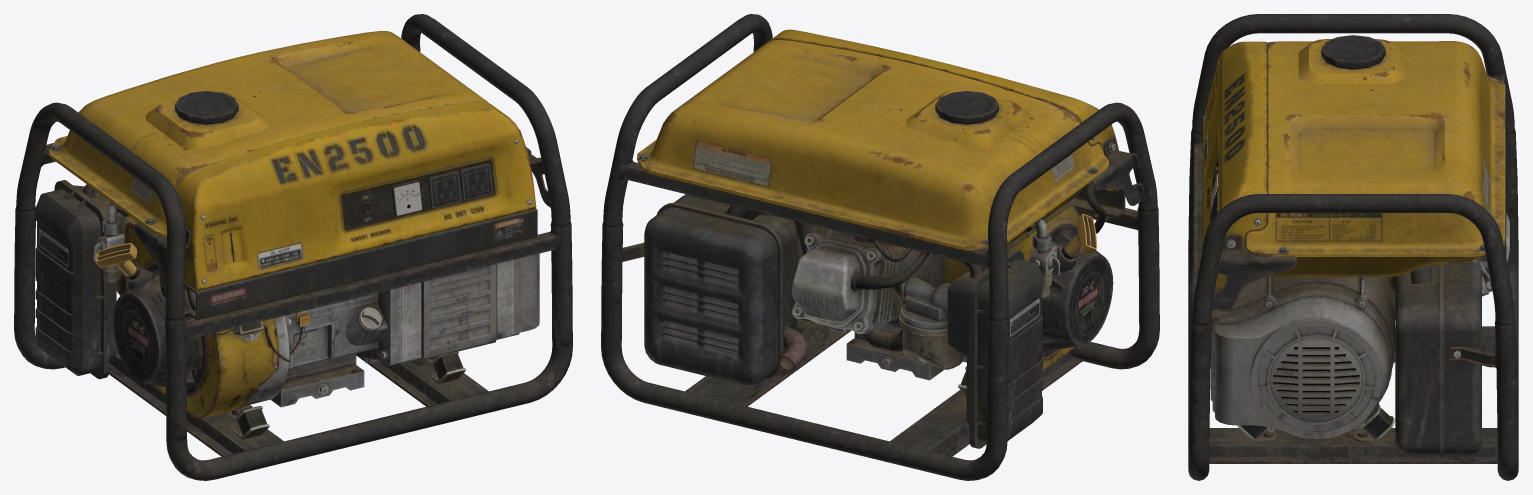
File: industrial_generator.glb
3 renders of one model, left to right at view 1: azimuth 30°, elevation 25°; view 2: azimuth 150°, elevation 25°; view 3: azimuth 270°, elevation 25°, orthographic.
Parts seen in each view (by area): view 1: portable_generator; view 2: portable_generator; view 3: portable_generator.
Part boxes in pixels (bbox=[...]): portable_generator: bbox=[14, 14, 572, 480]; portable_generator: bbox=[601, 14, 1159, 480]; portable_generator: bbox=[1188, 14, 1518, 480].
Size of the model in its own units: 1.92 by 1.36 by 1.33.
2 materials, 2 textured.
